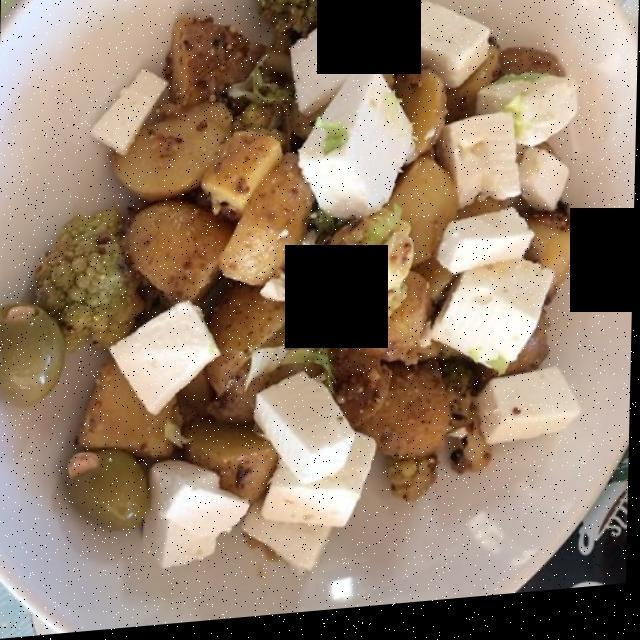cheese: (86, 0, 586, 582)
potatoes: (80, 33, 584, 524)
romanesco: (28, 0, 491, 516)
